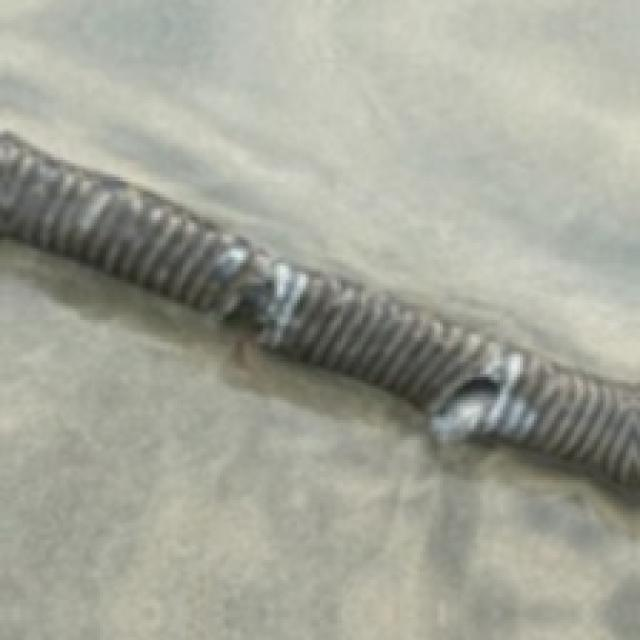king cobra: (0, 131, 637, 491)
